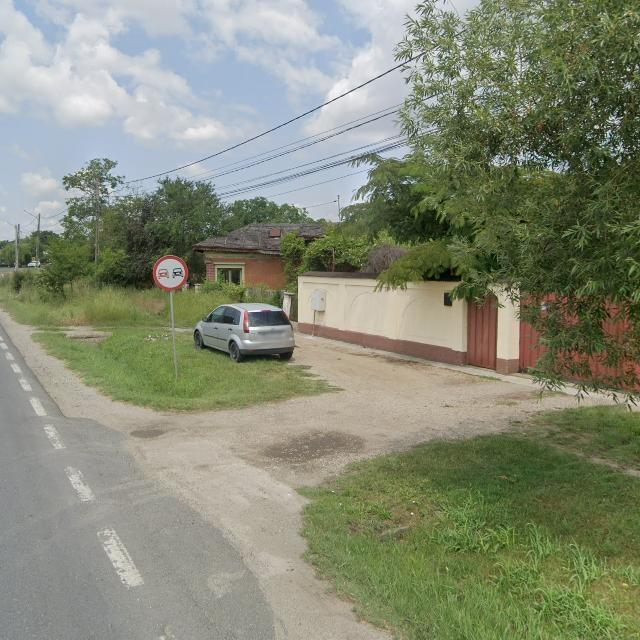forb_overtake: (152, 253, 189, 290)
